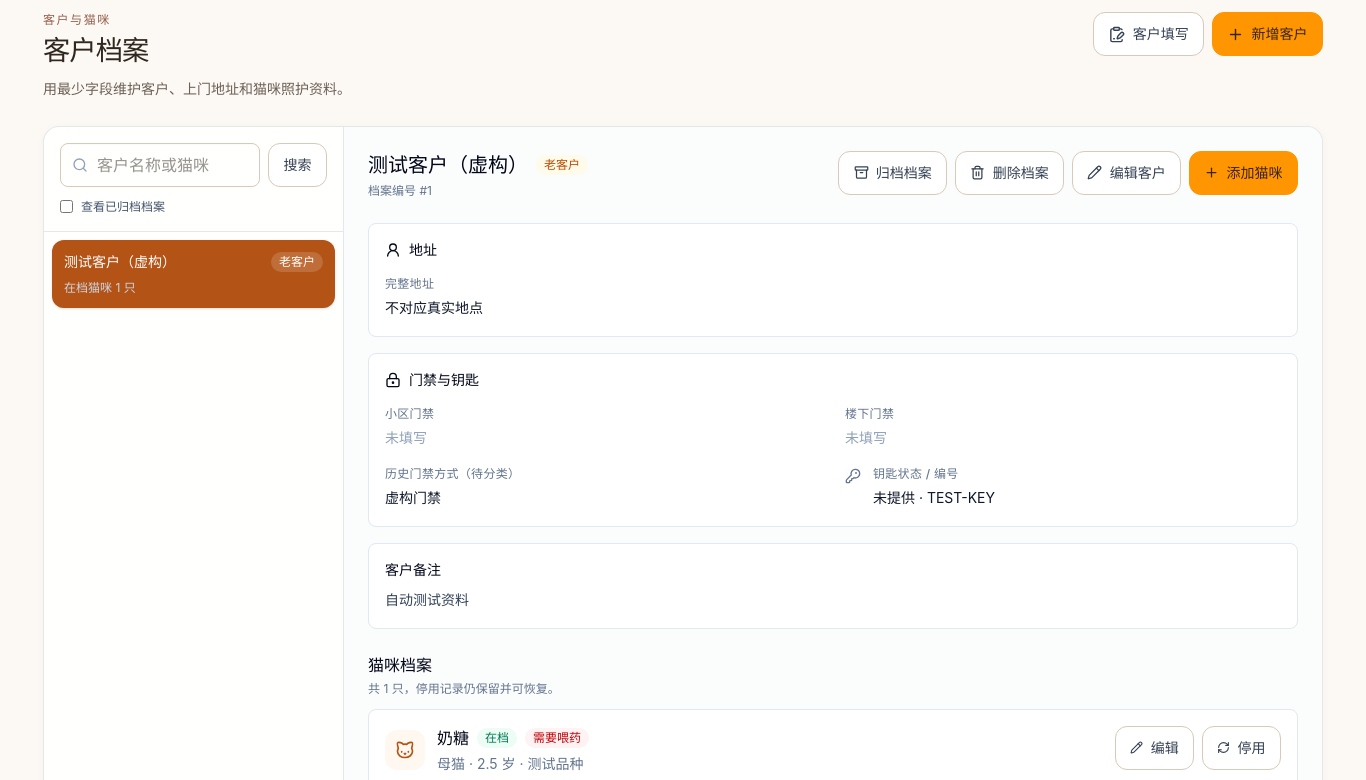
Test: shows a clean empty state when a search has no matches
Expected: the heading "测试客户（虚构）" is shown, [368,151,528,179]
Type "不存在的客户" into the search field named "搜索客户". click: (160, 165)
box: [60,143,260,187]
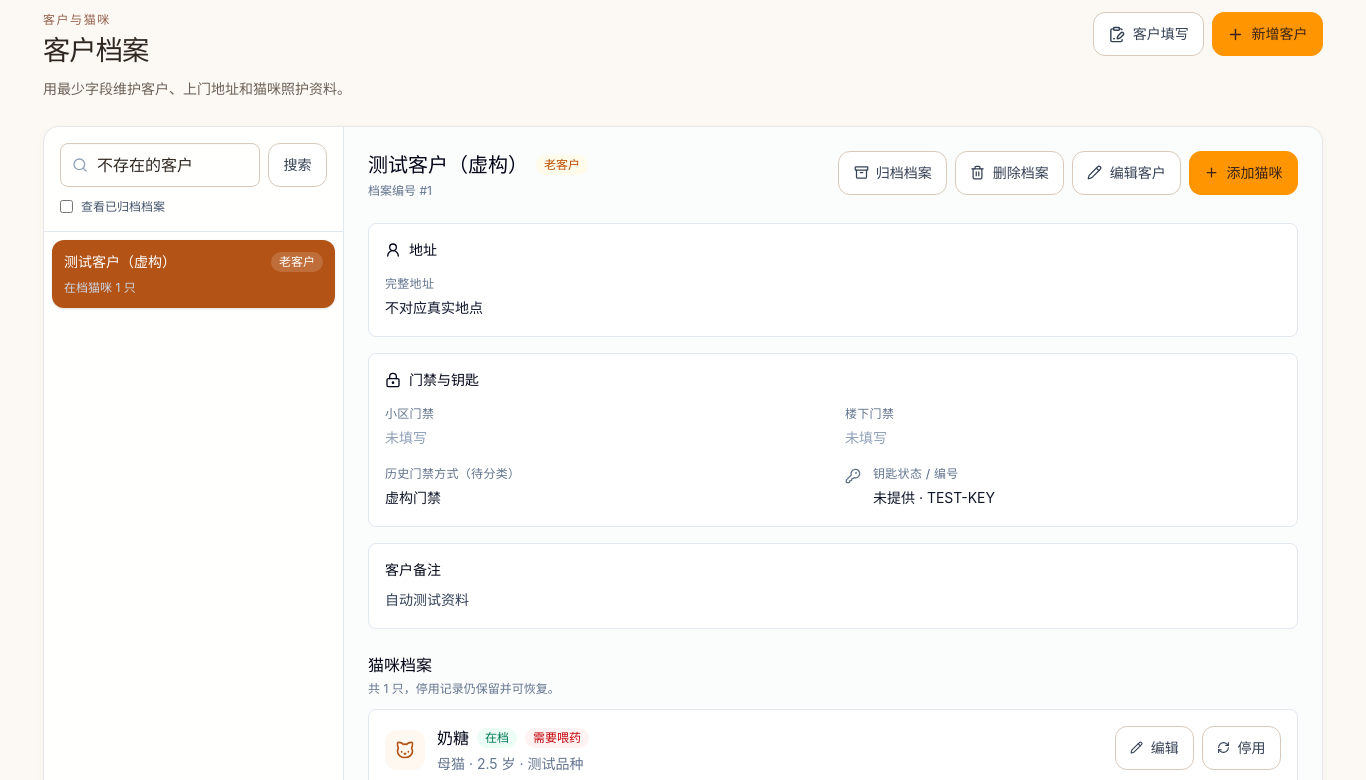
Click the button "搜索". click: (298, 165)
box: [268,143,327,187]
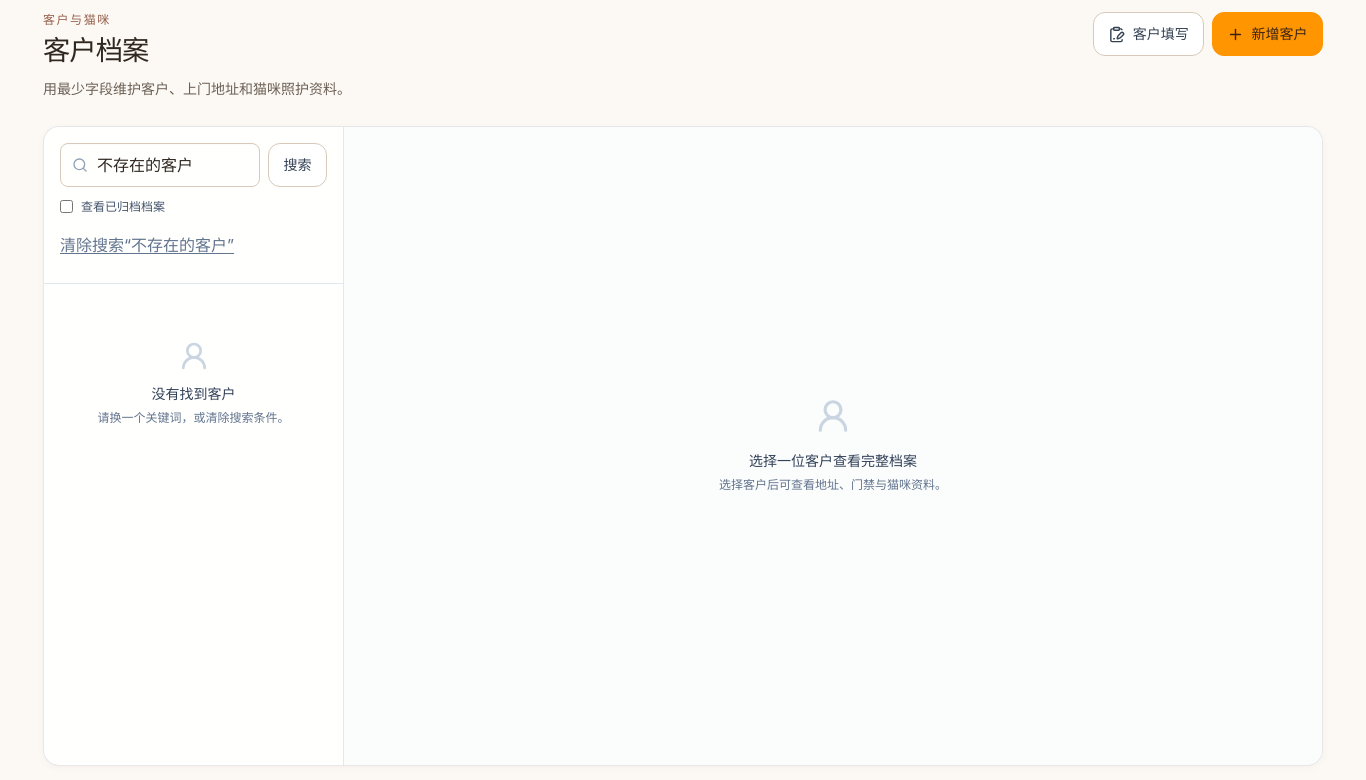
Expected: the text "没有找到客户" is shown, [152,385,236,402]
Expected: the button "测试客户（虚构）" is gone
Expected: the text "选择一位客户查看完整档案" is shown, [749,451,917,471]
